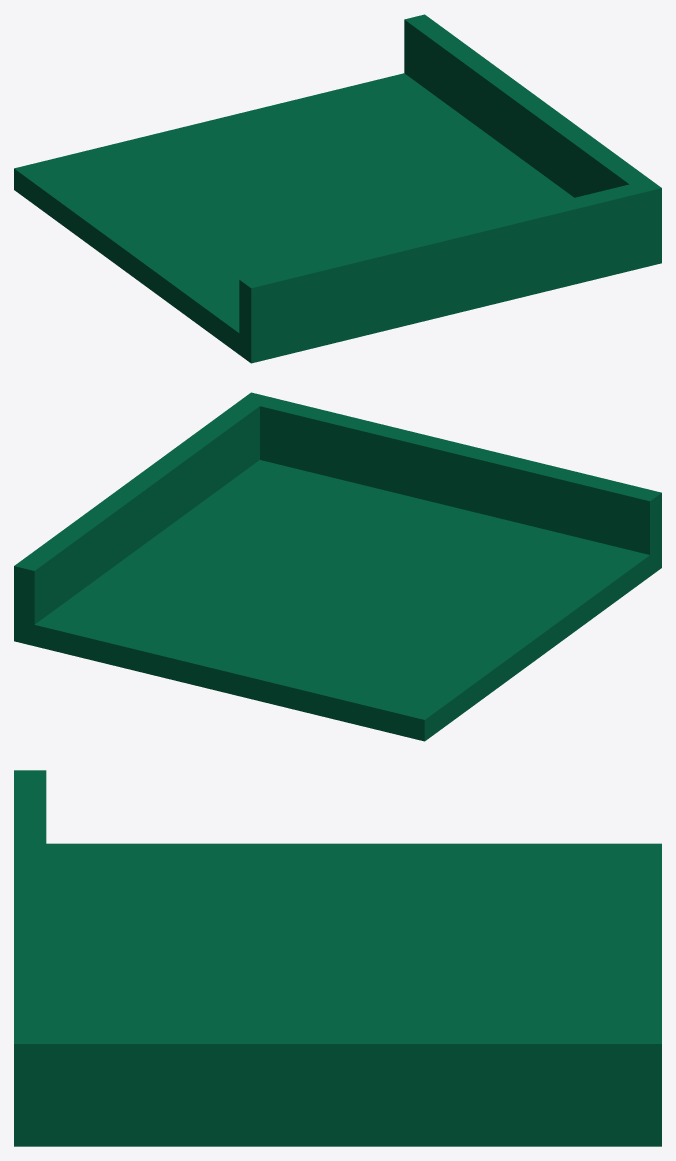
File: GreenRoof_Corner.glb
3 views of the same model, one above another, from view 1: azimuth 30°, elevation 25°; view 2: azimuth 150°, elevation 25°; view 3: azimuth 270°, elevation 25° (orthographic). The views are drawn at different scales.
Parts seen in each view (by area): view 1: roof_flat_corner_green; view 2: roof_flat_corner_green; view 3: roof_flat_corner_green.
Part boxes in pixels (x1,y1,x2,y2): roof_flat_corner_green: (14, 14, 661, 363); roof_flat_corner_green: (14, 392, 661, 741); roof_flat_corner_green: (14, 770, 661, 1146).
Size of what is drawn, in the model's own units: 4 by 0.7 by 4.
1 material, 1 textured.
